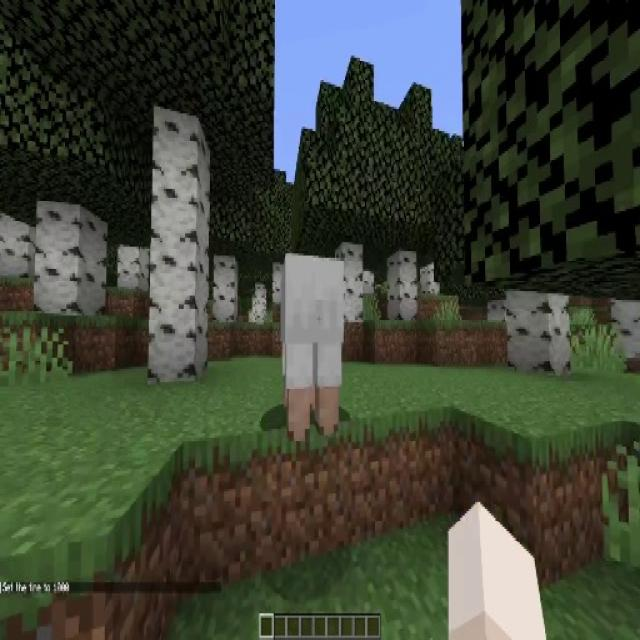birch: (42, 0, 280, 388), (0, 24, 164, 320), (290, 58, 417, 320), (350, 118, 457, 320), (182, 166, 270, 320)
birch_log: (152, 103, 208, 388), (33, 200, 110, 320), (508, 289, 569, 369), (336, 242, 364, 322), (387, 250, 416, 320), (611, 298, 640, 356), (1, 220, 28, 278), (214, 257, 237, 321), (117, 249, 149, 294), (420, 261, 441, 296), (253, 284, 265, 322), (488, 300, 508, 322), (273, 267, 282, 301)
